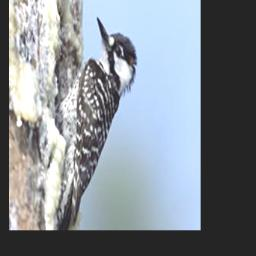Woodpecker: (33, 9, 138, 225)
